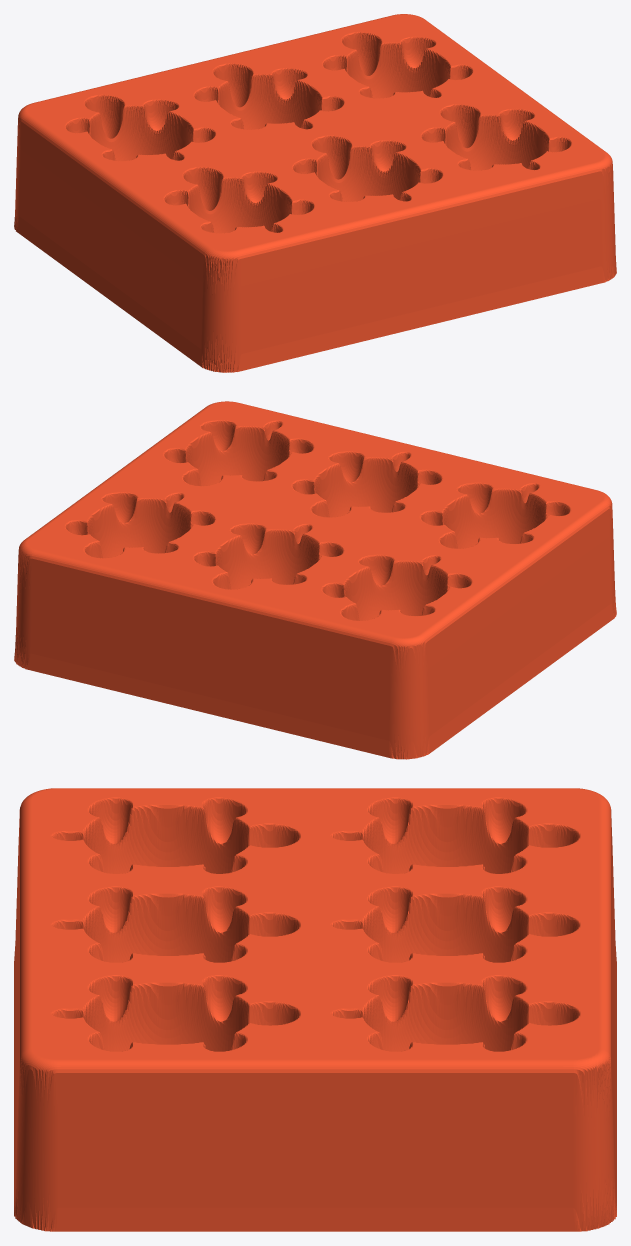
Rendered from mold.glb.
The picture shows the model from 3 angles, top to bottom: view 1: azimuth 30°, elevation 25°; view 2: azimuth 150°, elevation 25°; view 3: azimuth 270°, elevation 25°; orthographic projection. The views are drawn at different scales.
Visible parts, largest first — view 1: geometry_0; view 2: geometry_0; view 3: geometry_0.
Boxes of the visible parts, x1=… form: geometry_0: x1=14, y1=14, x2=616, y2=372; geometry_0: x1=14, y1=401, x2=616, y2=759; geometry_0: x1=14, y1=788, x2=616, y2=1231.
Bounding box in the file's own units: 0.1402 × 0.0377 × 0.1252.
